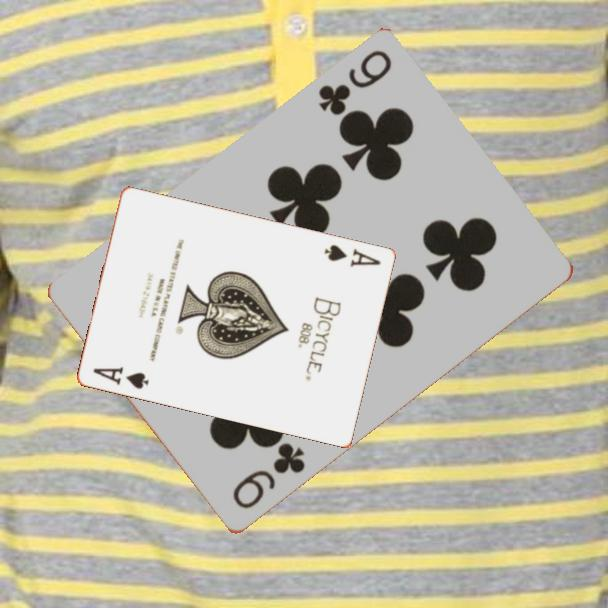c09: (228, 439, 308, 513), (314, 47, 395, 120)
s01: (321, 241, 384, 270), (90, 363, 152, 392)
